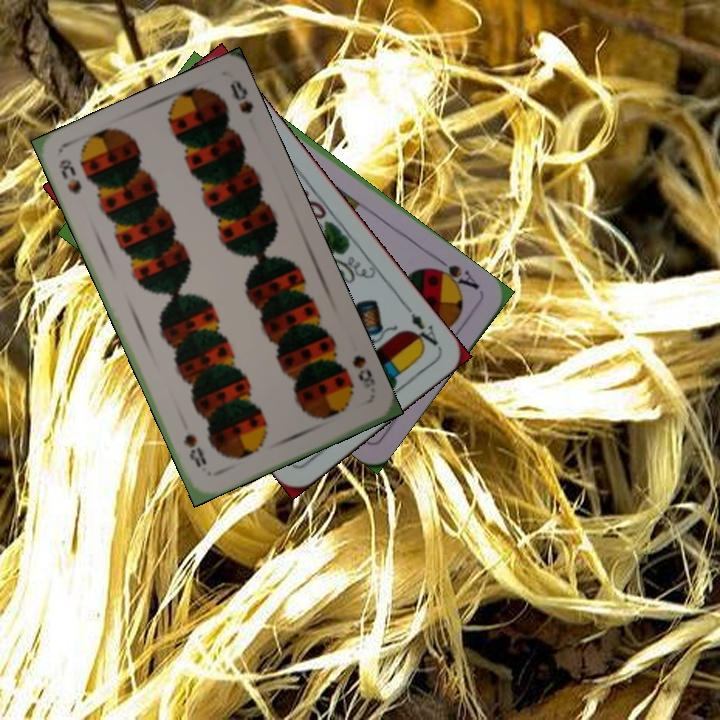EA: (400, 299, 441, 352)
S8: (54, 155, 85, 198), (348, 350, 378, 391)
SA: (426, 253, 482, 294)
